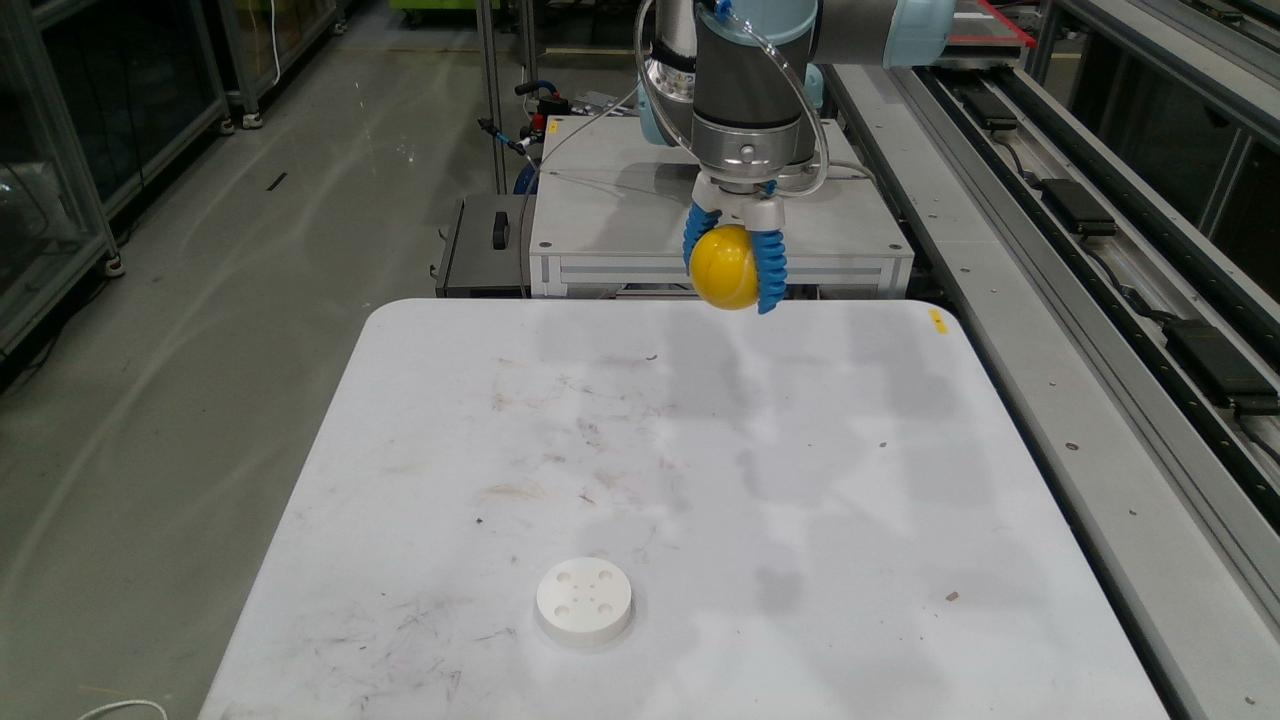UR5: (638, 4, 952, 229)
gripper_left: (683, 202, 721, 273), (756, 231, 784, 310)
gripper_right: (756, 231, 784, 310)
target: (540, 561, 630, 638), (692, 224, 758, 309)
